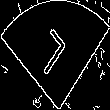L_SW: (35, 26, 75, 84)
